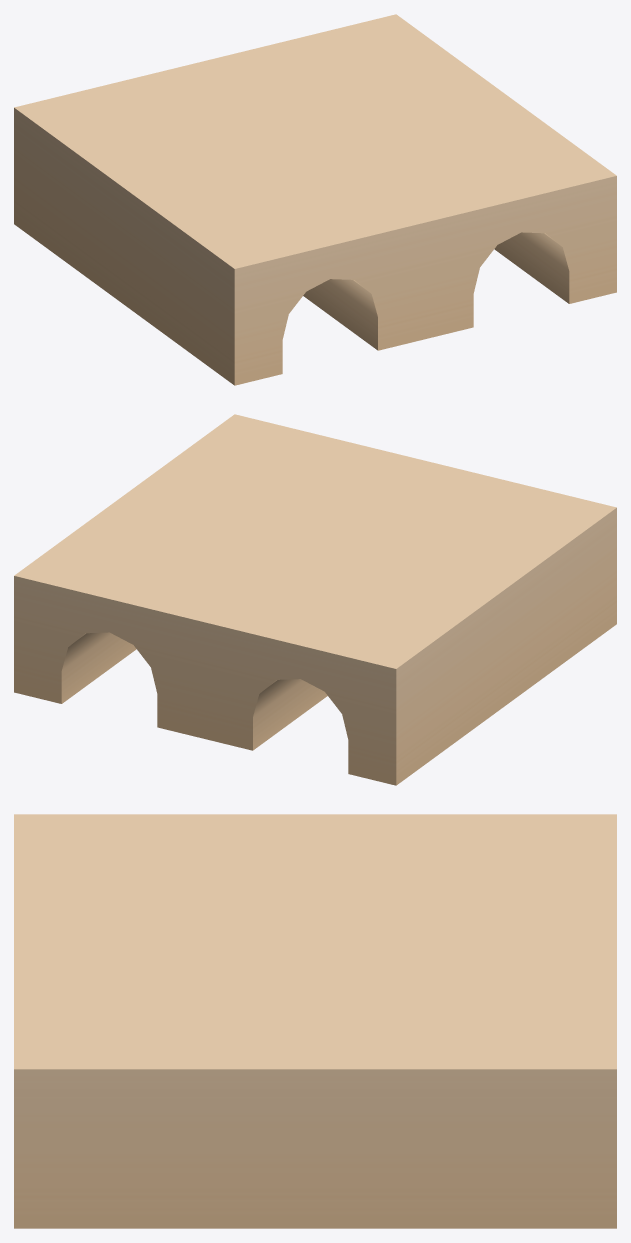
File: structure-gates.glb
3 renders of one model, top to bottom at view 1: azimuth 30°, elevation 25°; view 2: azimuth 150°, elevation 25°; view 3: azimuth 270°, elevation 25°, orthographic. The views are drawn at different scales.
Visible parts, largest first — view 1: structure-gates; view 2: structure-gates; view 3: structure-gates.
Boxes of the visible parts, bbox=[...] form: structure-gates: bbox=[14, 14, 616, 385]; structure-gates: bbox=[14, 414, 616, 785]; structure-gates: bbox=[14, 814, 616, 1228].
Bounding box in the file's own units: 0.7999 × 0.2333 × 0.7999.
1 material, 1 textured.
